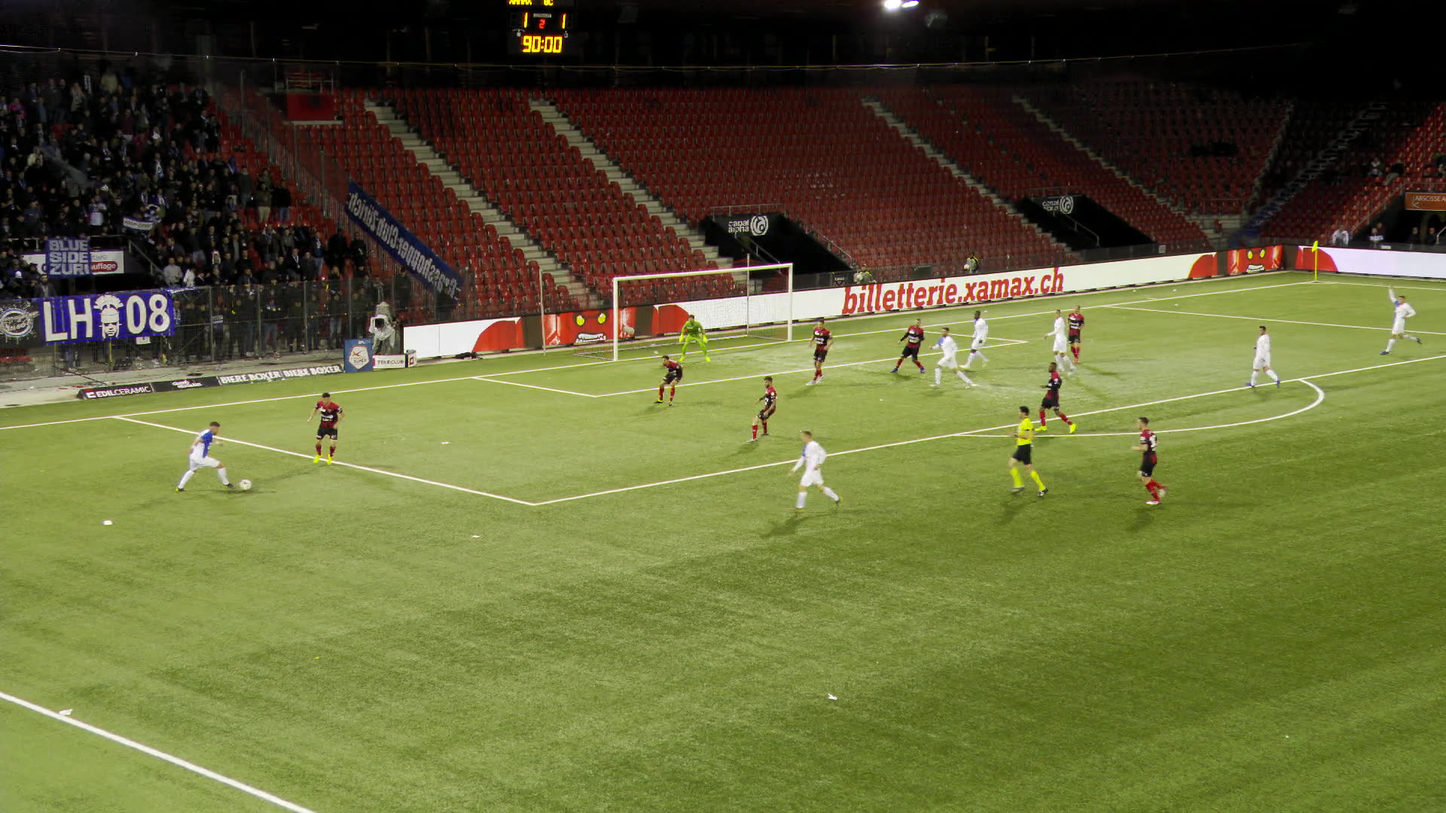ball: (239, 480, 250, 489)
player: (786, 428, 844, 513), (175, 422, 233, 492), (1378, 280, 1422, 355), (1130, 416, 1165, 504), (1033, 361, 1075, 434), (307, 391, 346, 464), (929, 325, 972, 388), (1245, 325, 1280, 388), (1043, 309, 1075, 375), (746, 375, 778, 441), (889, 318, 925, 373), (958, 309, 989, 369), (806, 319, 831, 385), (652, 355, 682, 405), (679, 315, 710, 362), (1066, 305, 1084, 361)
referee: (1005, 404, 1048, 498)
